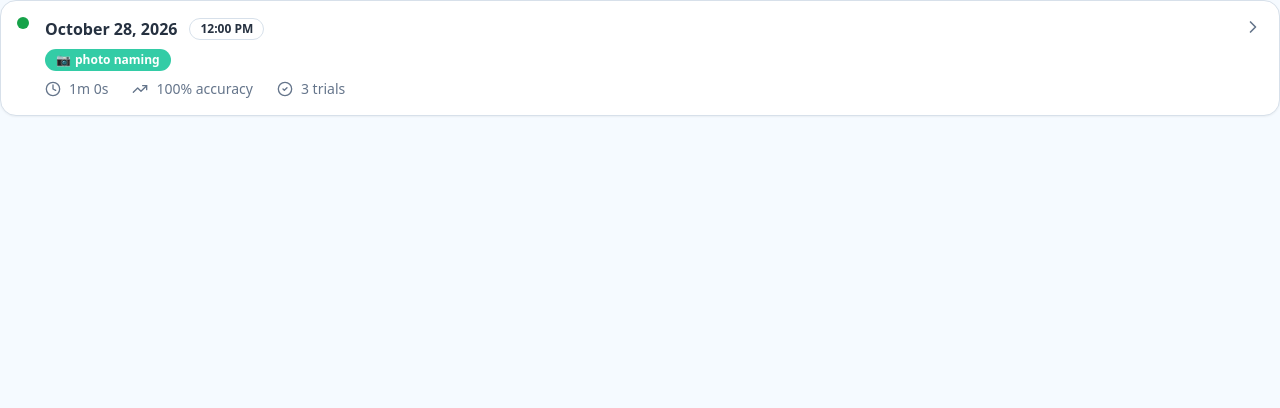
Test: session response-time displays › history timeline uses a measured-only denominator and retains a zero trial
The width and height of the screenshot is (1280, 408).
Click the heading "October 28, 2026": x=111, y=29 45,17 -> 178,41
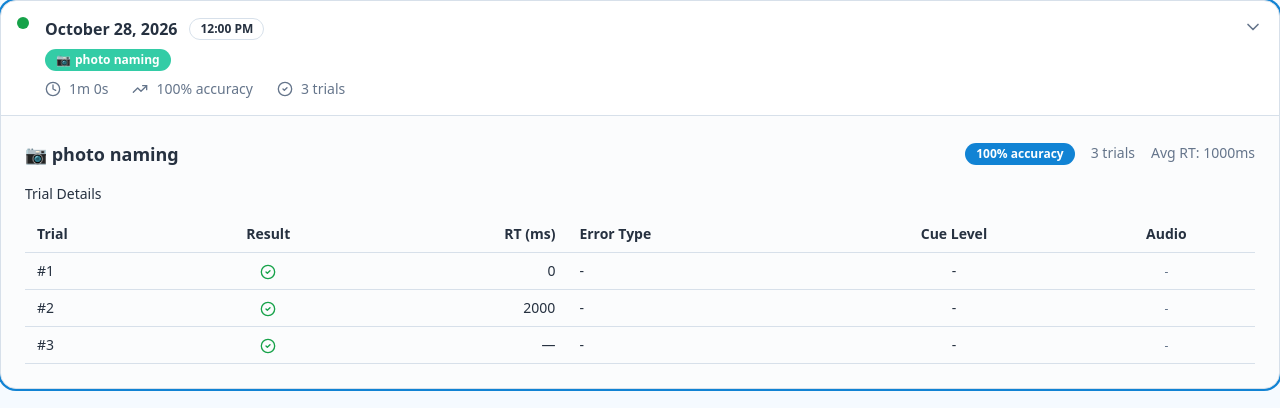
Expected: the text "Avg RT: 1000ms" is shown, 1151,143 -> 1255,165
Expected: the cell "0" is shown, 361,252 -> 567,290
